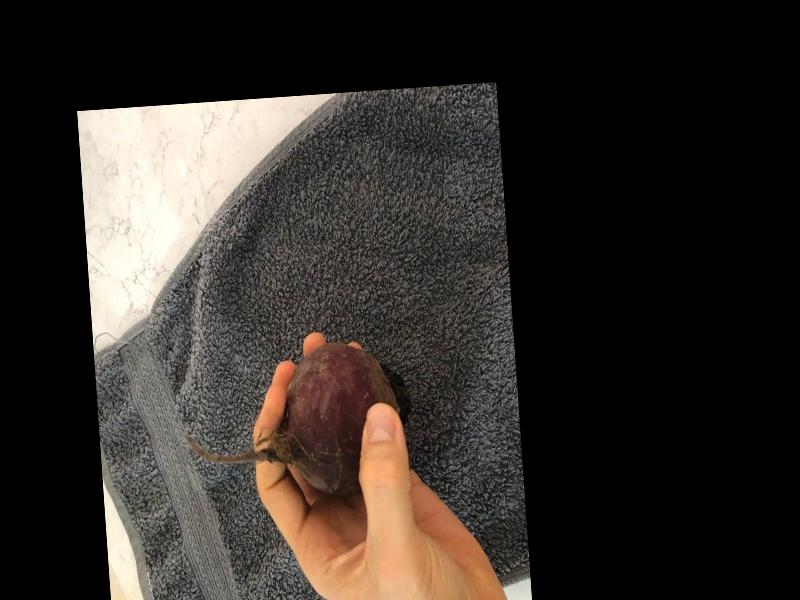Beet: (177, 337, 416, 506)
